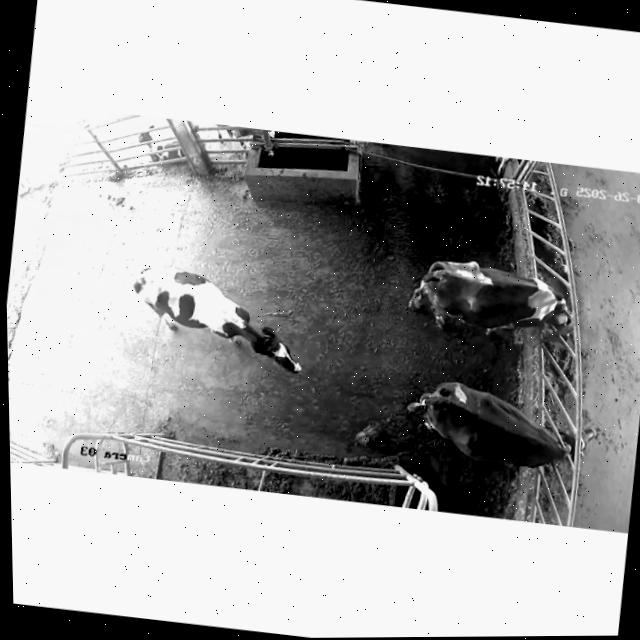stand: (113, 249, 339, 395)
